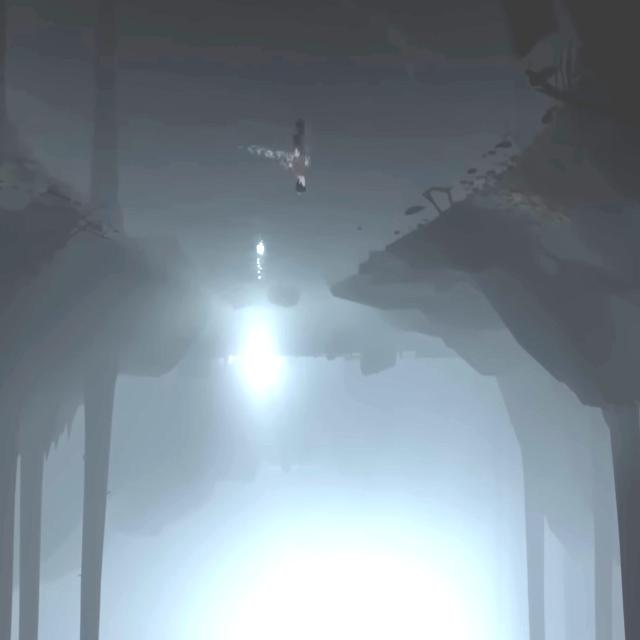boy: (294, 143, 310, 194)
